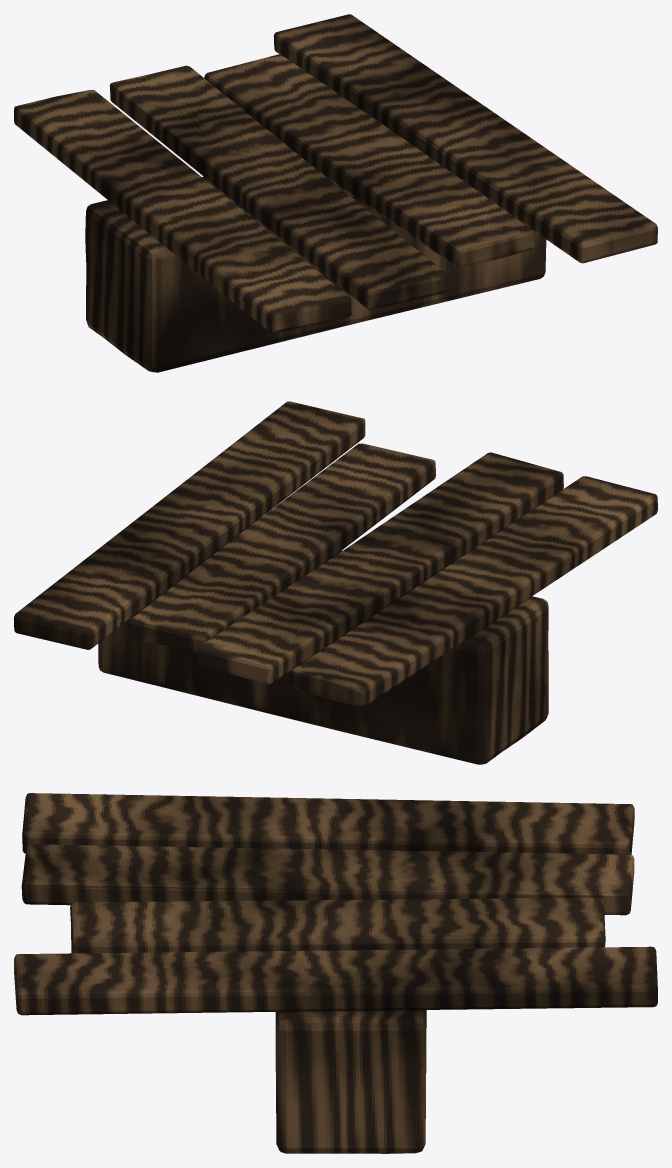
Rendered from mine_timber_cap.glb.
3 renders of one model, top to bottom at view 1: azimuth 30°, elevation 25°; view 2: azimuth 150°, elevation 25°; view 3: azimuth 270°, elevation 25°, orthographic. The views are drawn at different scales.
Parts seen in each view (by area): view 1: mine_timber_cap; view 2: mine_timber_cap; view 3: mine_timber_cap.
Boxes of the visible parts, box(x1,y1,x2,y2) form: mine_timber_cap: box(14, 14, 657, 372); mine_timber_cap: box(14, 401, 657, 764); mine_timber_cap: box(14, 793, 657, 1153).
Bounding box in the file's own units: 1 × 0.3528 × 1.29.
1 material, 1 textured.
